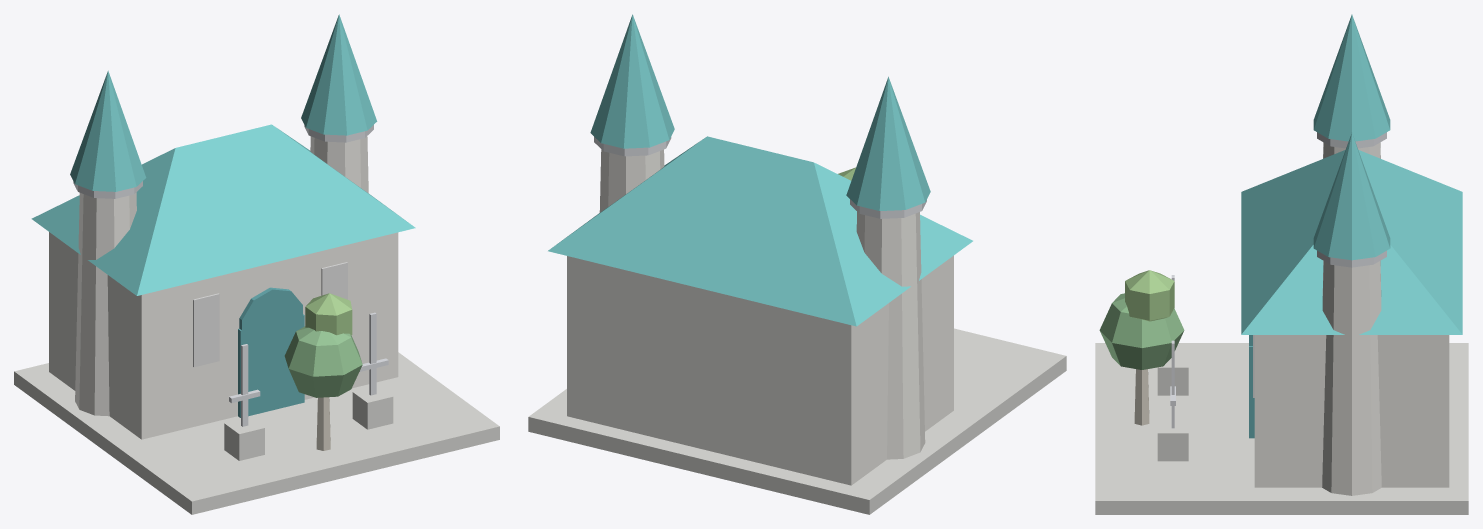
3 renders of one model, left to right at view 1: azimuth 30°, elevation 25°; view 2: azimuth 150°, elevation 25°; view 3: azimuth 270°, elevation 25°, orthographic. The views are drawn at different scales.
Parts seen in each view (by area): view 1: body; view 2: body; view 3: body.
Part boxes in pixels (bbox=[...]): body: bbox=[14, 14, 499, 514]; body: bbox=[528, 14, 1066, 514]; body: bbox=[1095, 14, 1468, 514].
Size of the model in its own units: 9.6 by 10.3 by 9.6.
